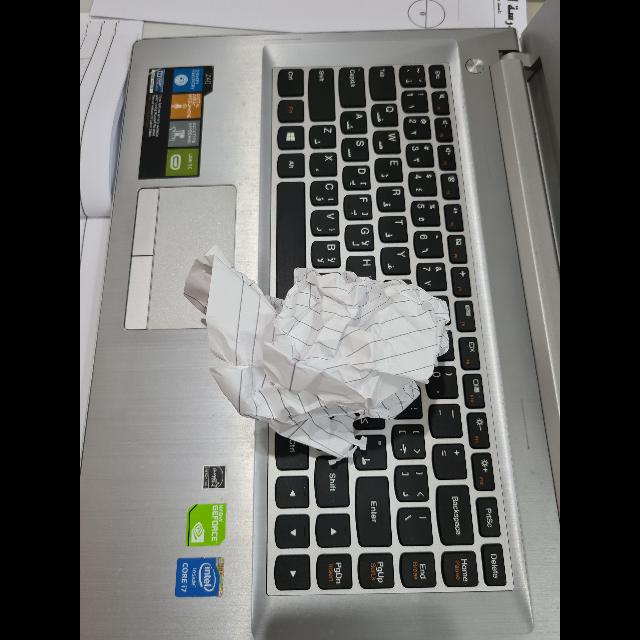scrap_paper: (194, 260, 446, 444)
